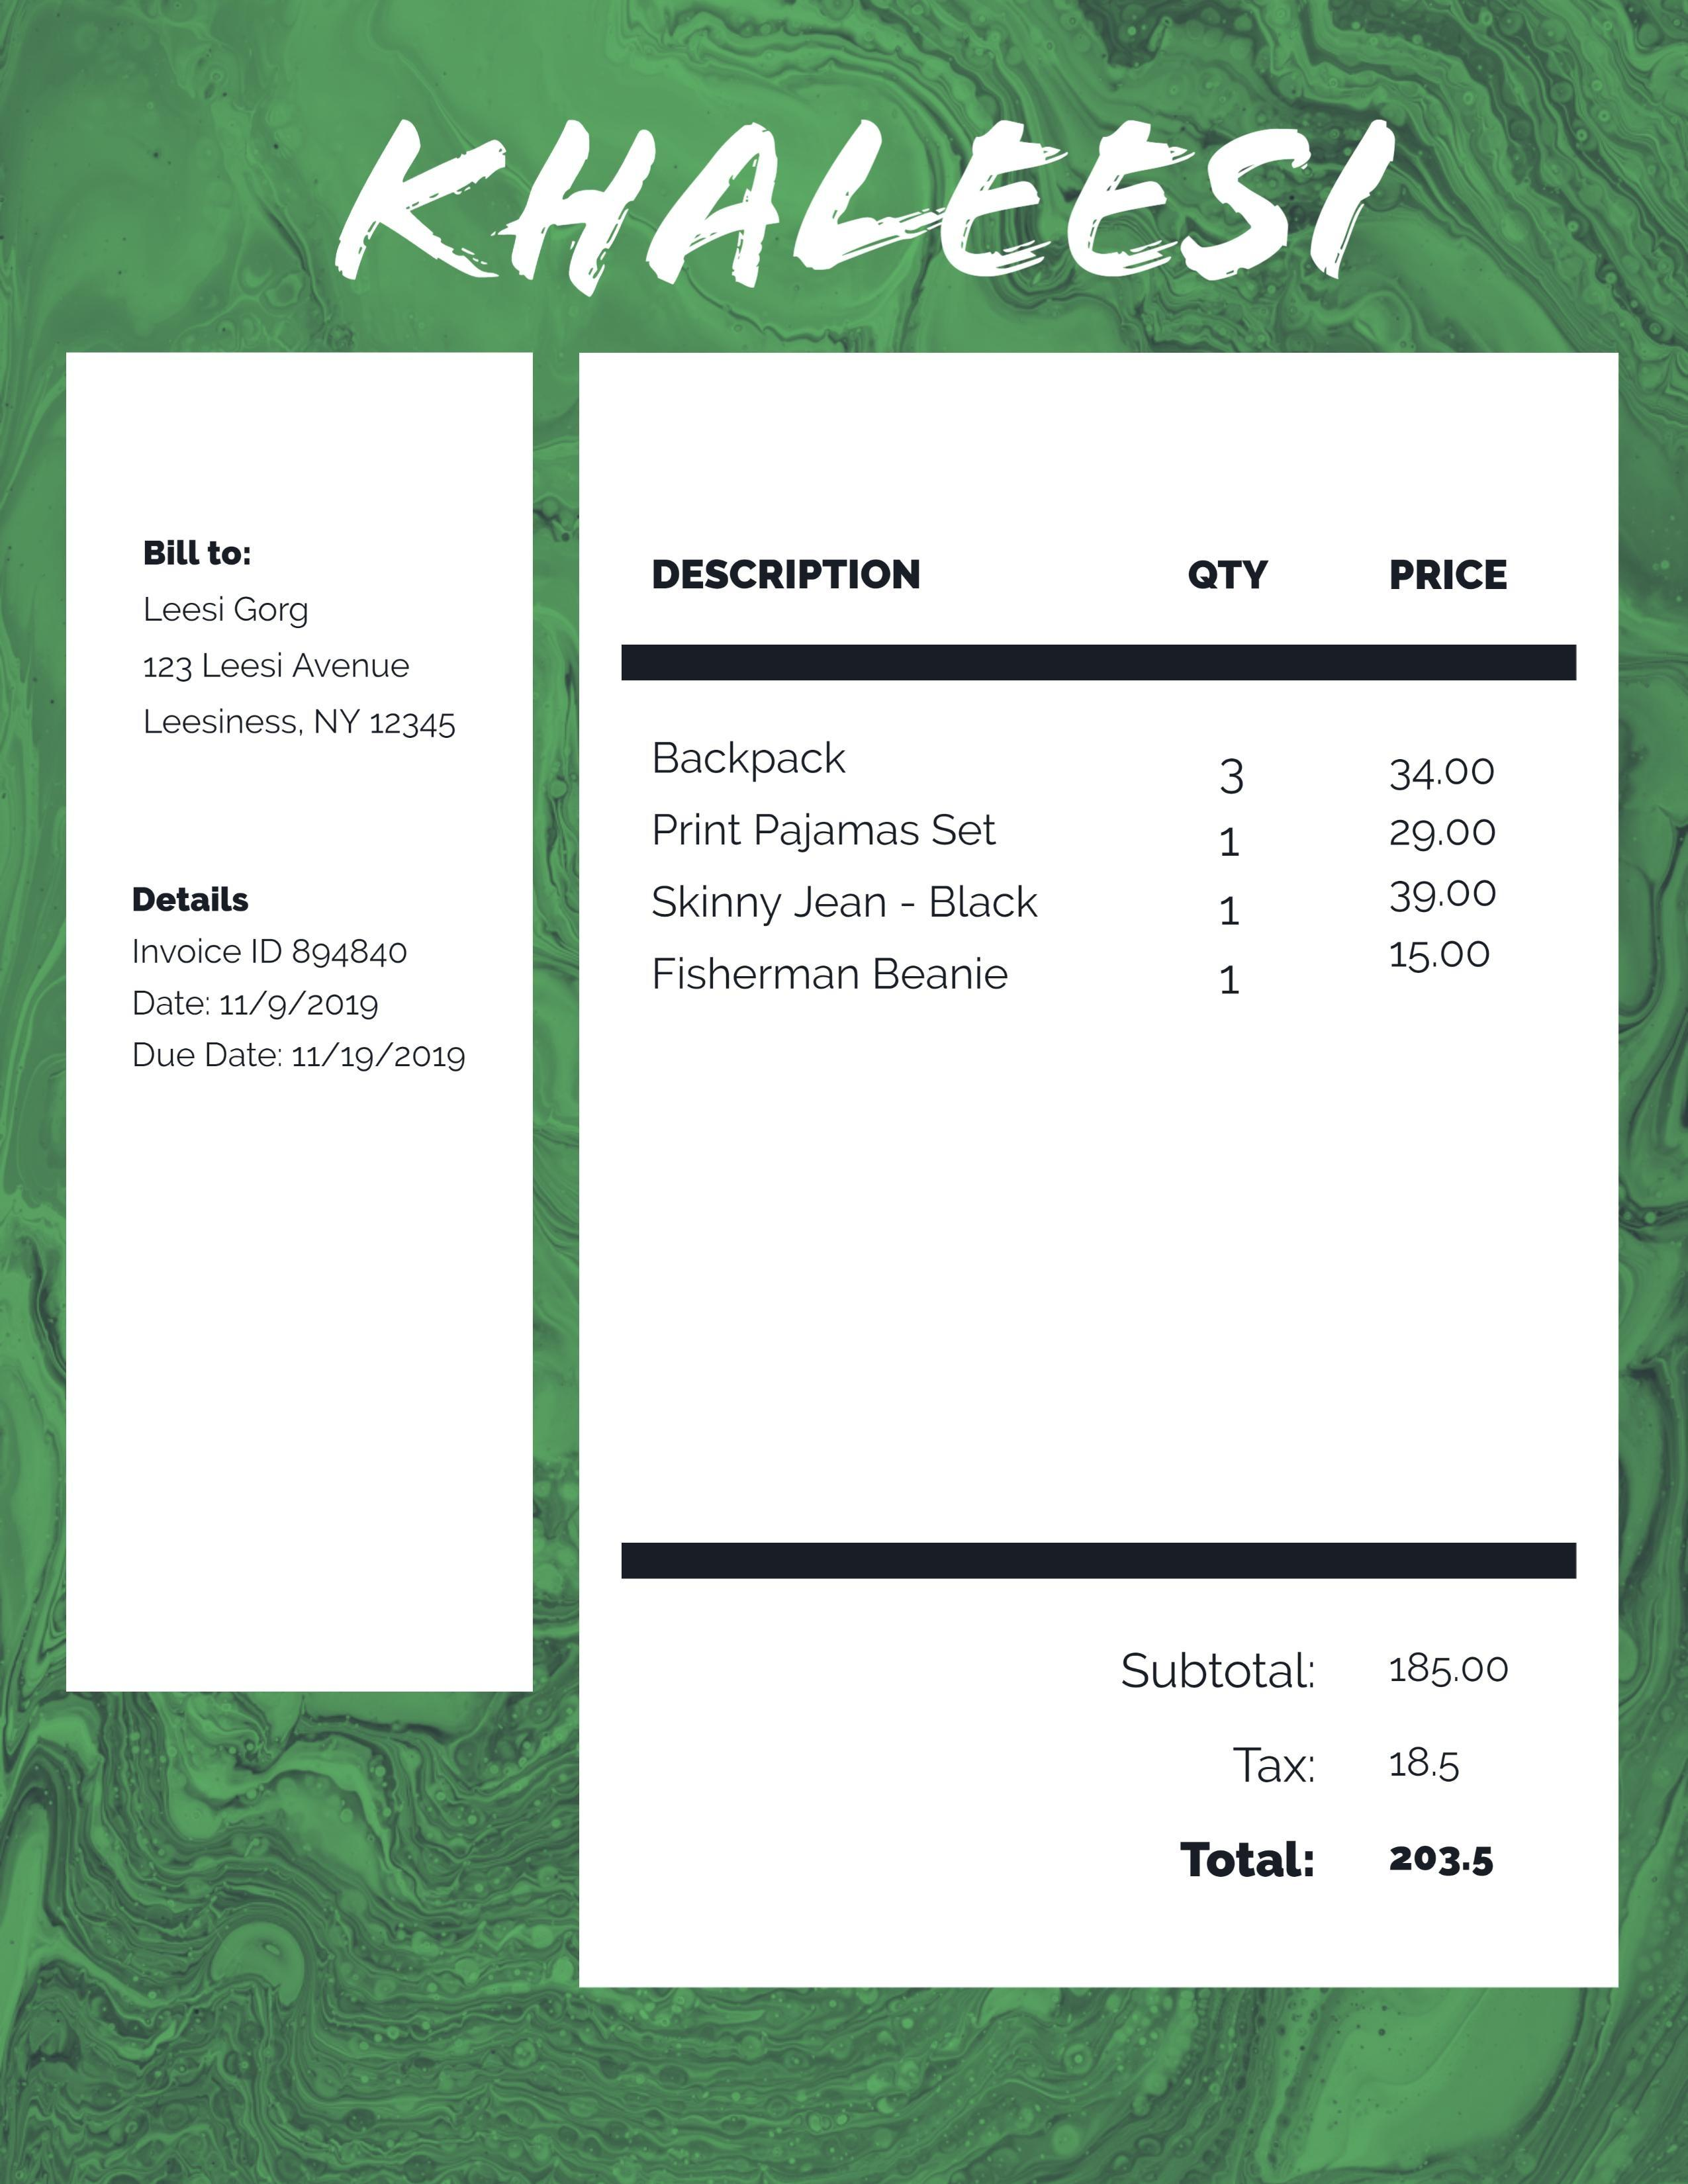ROI: (618, 545, 1585, 1009), (1103, 1640, 1555, 1910), (118, 876, 512, 1089), (132, 531, 468, 747)
